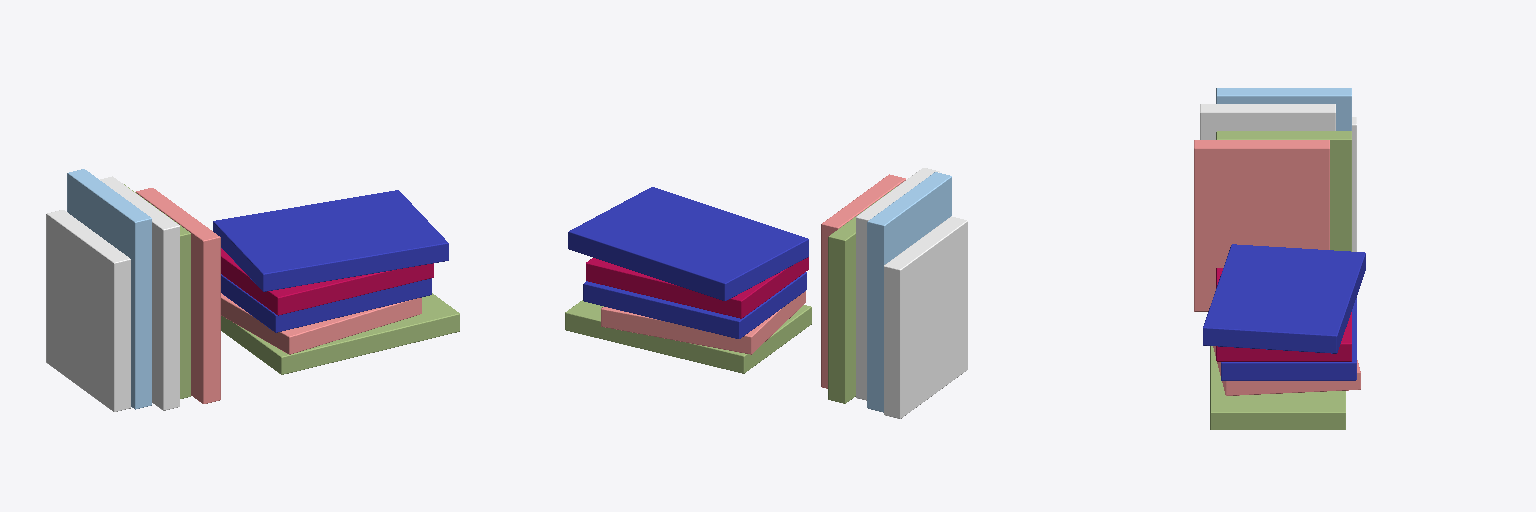
Rendered from book4_2.obj.
The picture shows the model from 3 angles: view 1: azimuth 30°, elevation 25°; view 2: azimuth 150°, elevation 25°; view 3: azimuth 270°, elevation 25°; orthographic projection.
Parts seen in each view (by area): view 1: 立方体.11, 立方体.8, 立方体.7, 立方体.4, 立方体.6, 立方体.15, 立方体.12, 立方体.14, 立方体.13, 立方体.5; view 2: 立方体.11, 立方体.8, 立方体.7, 立方体.5, 立方体.15, 立方体.13, 立方体.12, 立方体.14, 立方体.6, 立方体.4; view 3: 立方体.4, 立方体.11, 立方体.15, 立方体.6, 立方体.5, 立方体.13, 立方体.7, 立方体.12, 立方体.14, 立方体.8.
Part boxes in pixels (bbox=[...]): 立方体.11: bbox=[213, 190, 448, 291]; 立方体.8: bbox=[46, 210, 130, 411]; 立方体.7: bbox=[67, 169, 151, 409]; 立方体.4: bbox=[136, 188, 220, 403]; 立方体.6: bbox=[100, 176, 179, 410]; 立方体.15: bbox=[221, 293, 459, 374]; 立方体.12: bbox=[221, 248, 433, 315]; 立方体.14: bbox=[221, 293, 421, 354]; 立方体.13: bbox=[221, 274, 431, 332]; 立方体.5: bbox=[124, 184, 190, 398]; 立方体.11: bbox=[568, 187, 808, 300]; 立方体.8: bbox=[884, 216, 967, 418]; 立方体.7: bbox=[867, 172, 951, 412]; 立方体.5: bbox=[828, 187, 895, 403]; 立方体.15: bbox=[565, 300, 811, 373]; 立方体.13: bbox=[583, 272, 806, 338]; 立方体.12: bbox=[586, 257, 808, 318]; 立方体.14: bbox=[601, 291, 805, 354]; 立方体.6: bbox=[856, 168, 939, 400]; 立方体.4: bbox=[821, 174, 905, 388]; 立方体.4: bbox=[1194, 140, 1329, 311]; 立方体.11: bbox=[1203, 244, 1365, 353]; 立方体.15: bbox=[1210, 346, 1345, 429]; 立方体.6: bbox=[1200, 104, 1335, 139]; 立方体.5: bbox=[1216, 131, 1351, 251]; 立方体.13: bbox=[1221, 298, 1356, 380]; 立方体.7: bbox=[1216, 88, 1351, 130]; 立方体.12: bbox=[1216, 268, 1351, 361]; 立方体.14: bbox=[1208, 309, 1360, 395]; 立方体.8: bbox=[1352, 117, 1356, 251].
Size of the model in its own units: 76.62 by 40.26 by 33.29.